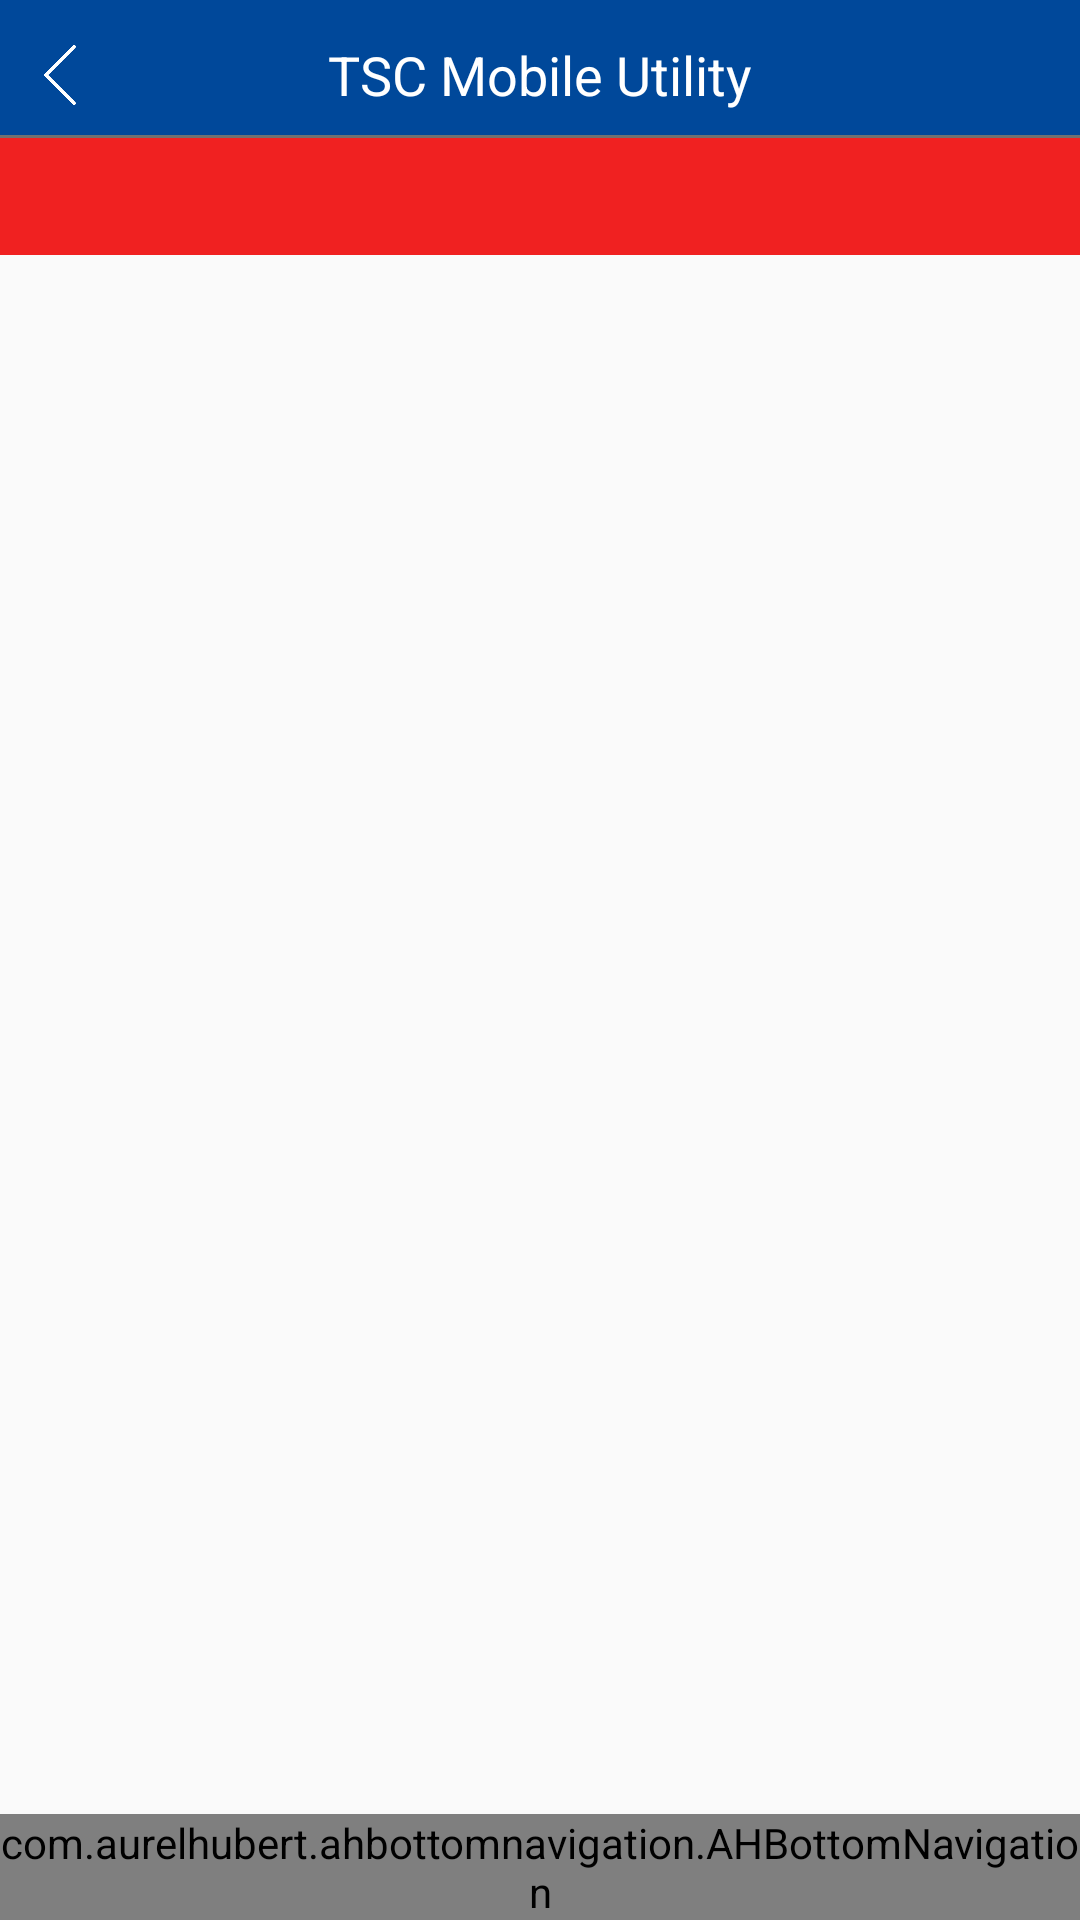

Screen size 1080*1920. Icon name, then its box in pixels as (x1, y1, x2, y2):
arrow left: (44, 45, 76, 105)
